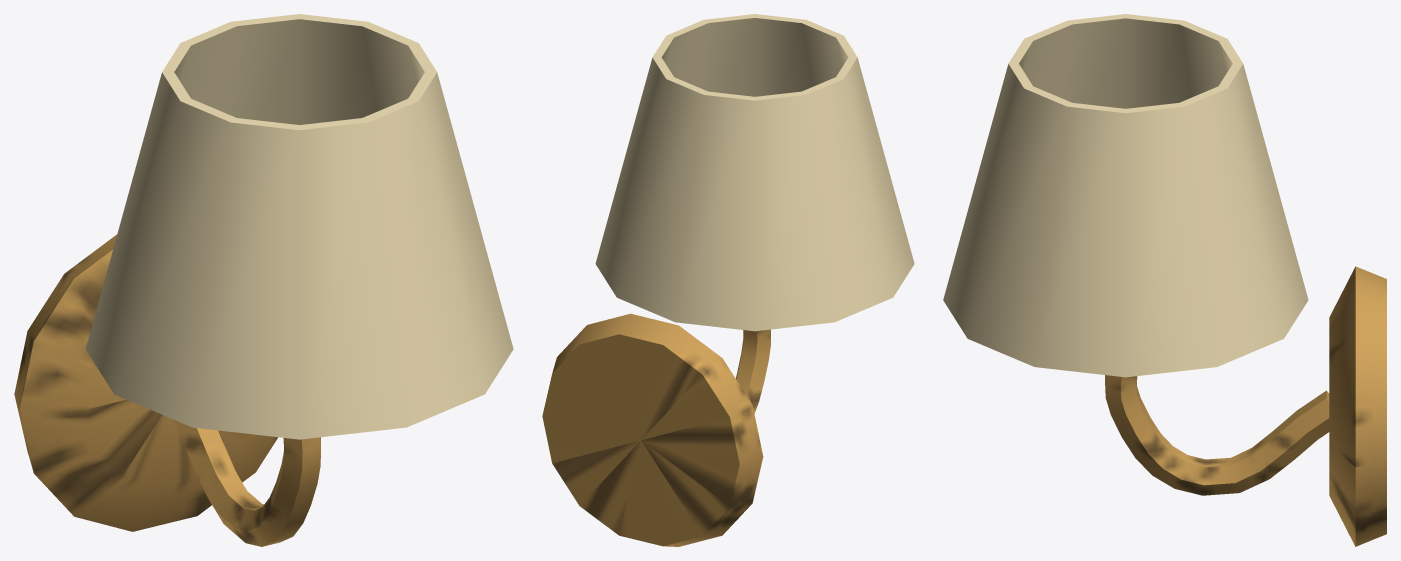
File: FX_SconceBrass.fbx
The picture shows the model from 3 angles, left to right: view 1: azimuth 30°, elevation 25°; view 2: azimuth 150°, elevation 25°; view 3: azimuth 270°, elevation 25°; orthographic projection. The views are drawn at different scales.
Parts seen in each view (by area): view 1: FX_SconceBrass_Emissive, FX_SconceBrass; view 2: FX_SconceBrass_Emissive, FX_SconceBrass; view 3: FX_SconceBrass_Emissive, FX_SconceBrass.
Boxes of the visible parts, left/top/right/bottom form: FX_SconceBrass_Emissive: left=85, top=14, right=513, bottom=439; FX_SconceBrass: left=14, top=234, right=320, bottom=546; FX_SconceBrass_Emissive: left=595, top=14, right=914, bottom=331; FX_SconceBrass: left=542, top=313, right=770, bottom=546; FX_SconceBrass_Emissive: left=943, top=14, right=1308, bottom=377; FX_SconceBrass: left=1105, top=266, right=1386, bottom=546.
Size of the model in its own units: 0.14 by 0.1986 by 0.17.
